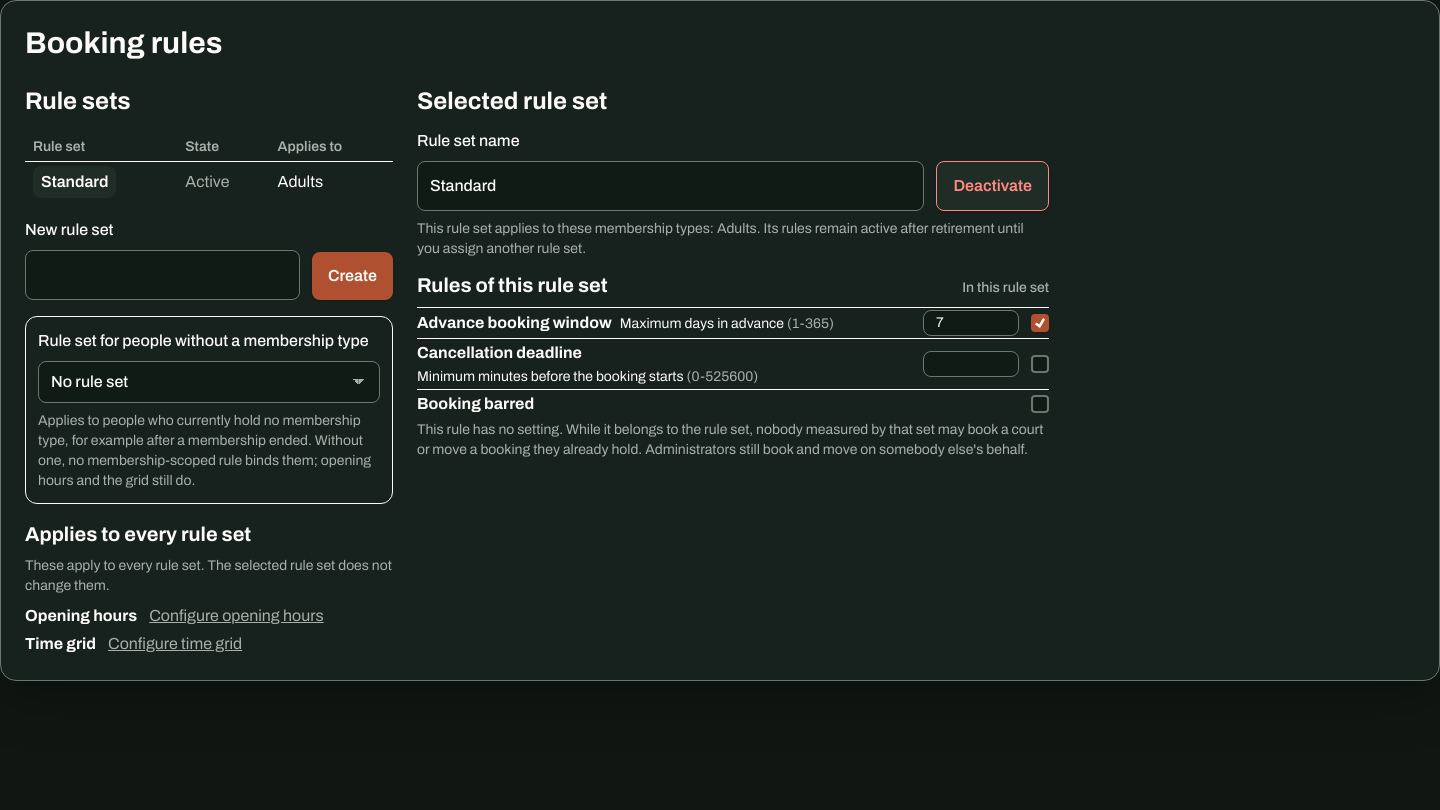
Test: AdminRuleSetsView › given the configuration cannot be read again, when the fallback is saved, then nothing is written and the failure is shown
The image size is (1440, 810).
Step 1. Select "Standard" in the dropdown with test id "no-membership-type-rule-set" → (209, 382), box left=38, top=361, right=380, bottom=403
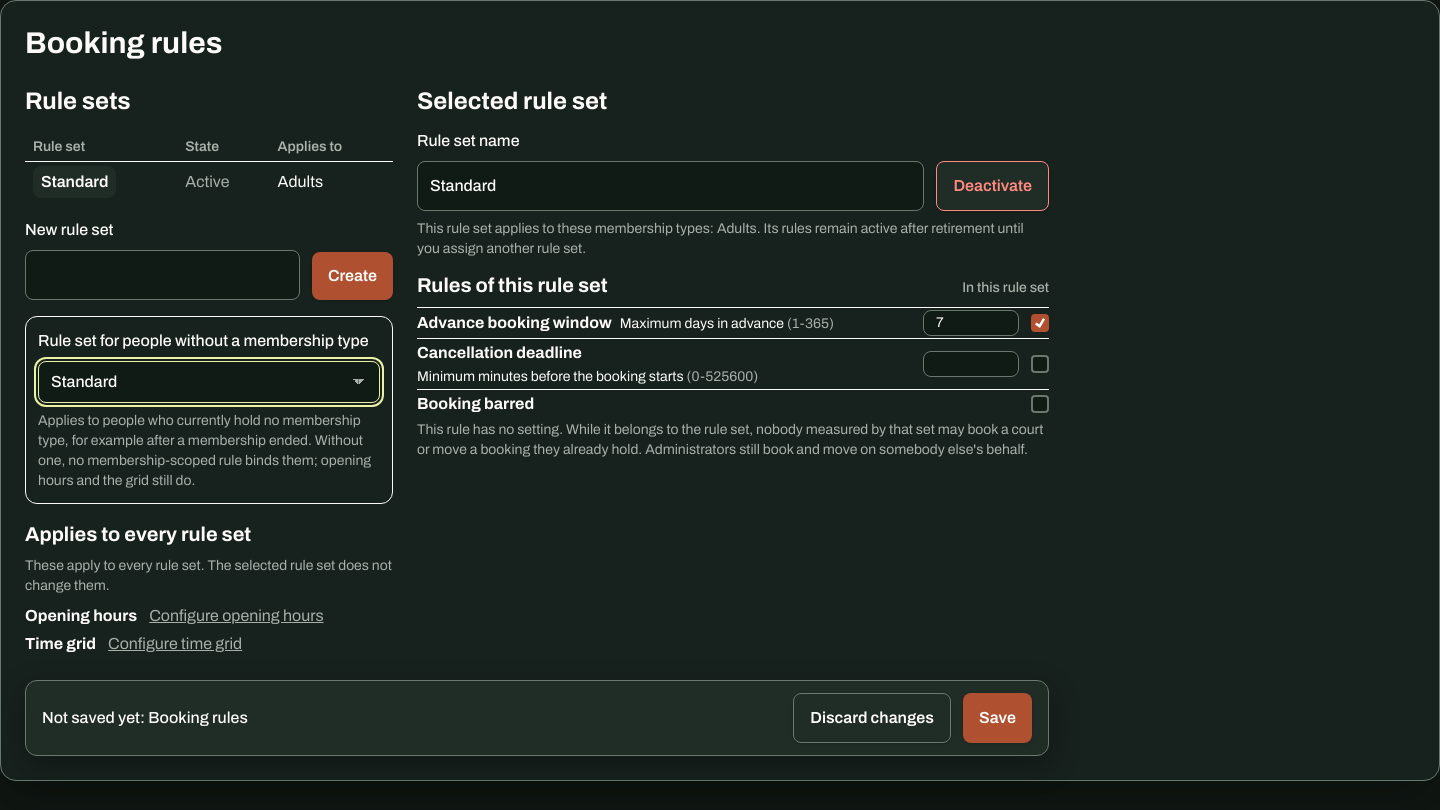
Step 2. Click the button with test id "save-booking-rules" → (998, 718), box left=963, top=693, right=1032, bottom=743
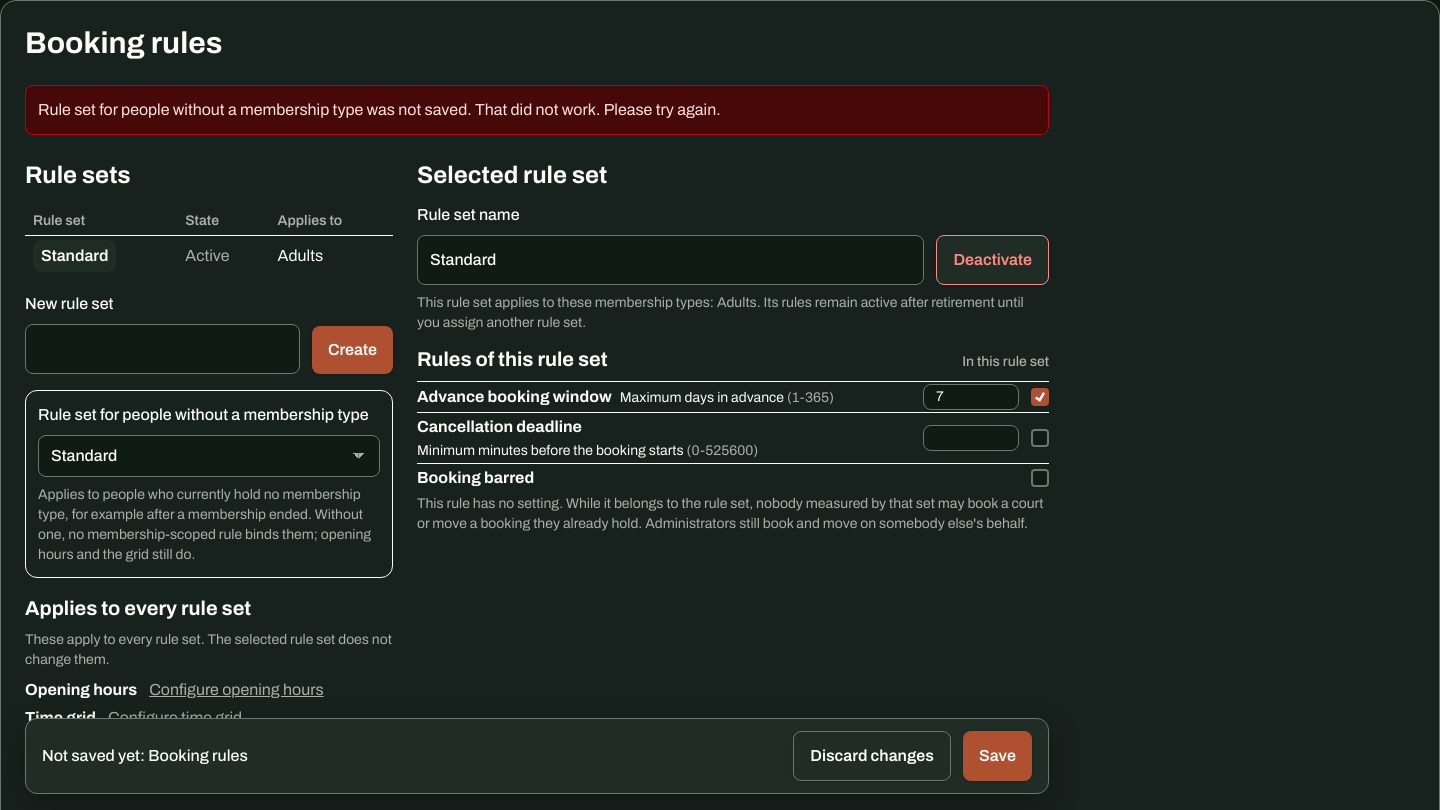
Expected: the message is shown, left=25, top=85, right=1049, bottom=135
